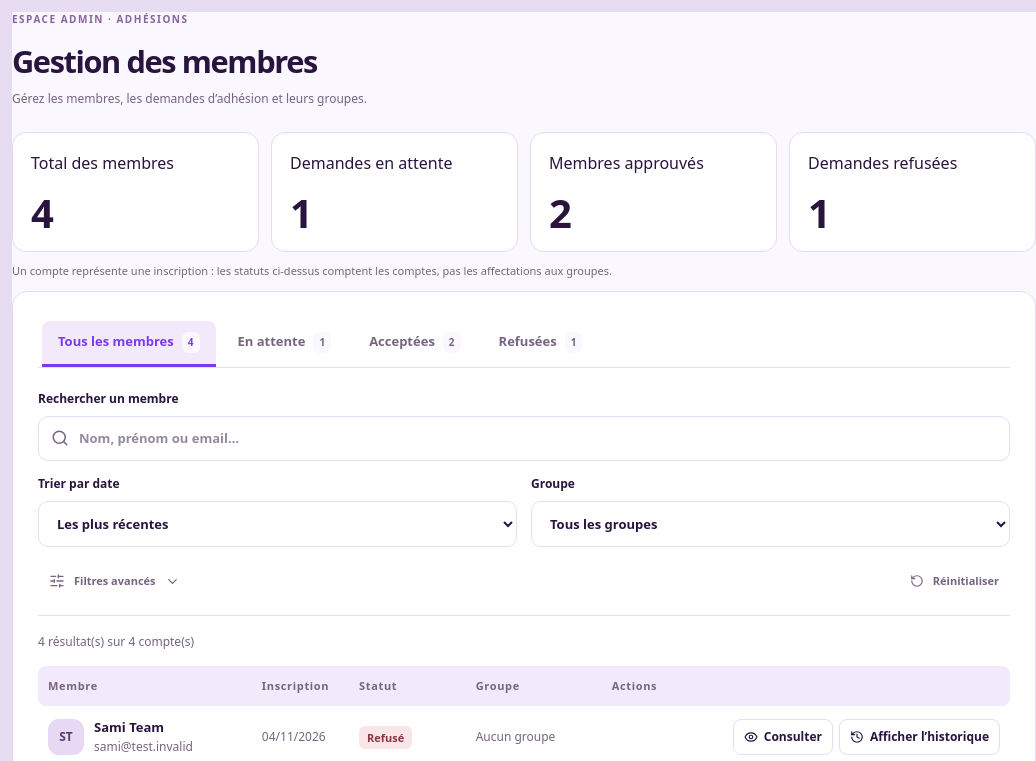
Gestion unique des membres › affiche tous les comptes et filtre sans changer de page
expect the heading "Gestion des membres" is shown: met, box x1=12 y1=43 x2=367 y2=79
Click the tab "En attente 1" at coordinates (284, 344), box x1=222 y1=321 x2=347 y2=367
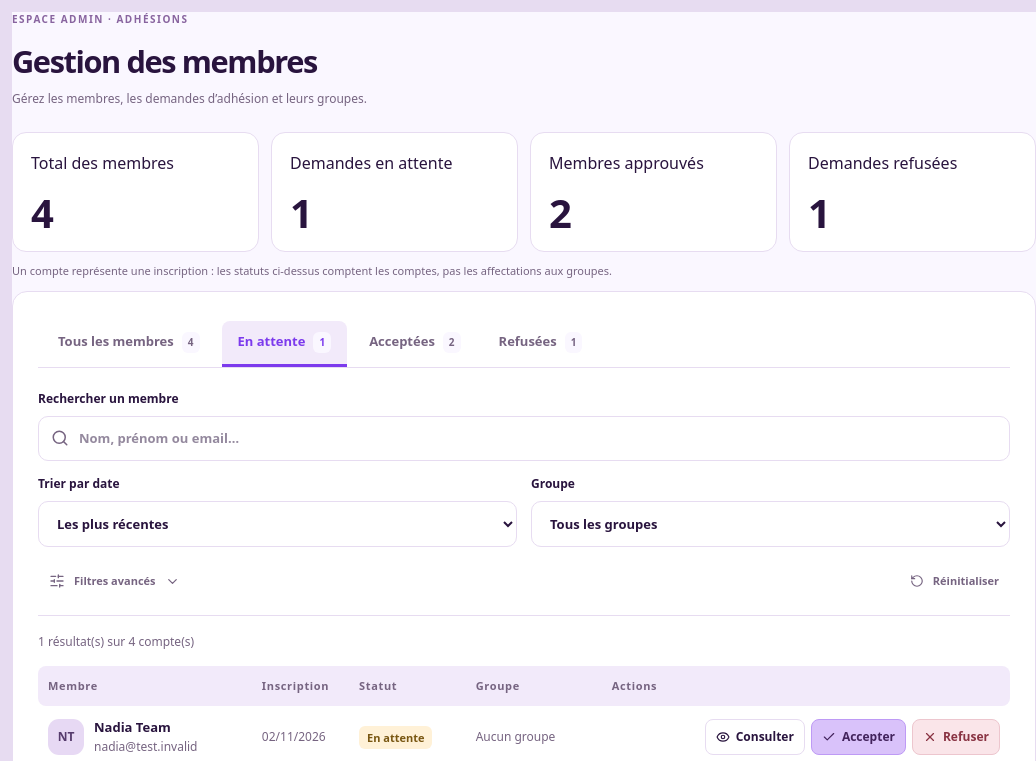
expect the text "nadia@test.invalid" is shown: met, box x1=94 y1=739 x2=198 y2=756
expect the number of buttons "Consulter" is 1: met, box x1=705 y1=719 x2=805 y2=755
Click the tab "Tous les membres 4" at coordinates (129, 344), box x1=42 y1=321 x2=216 y2=367
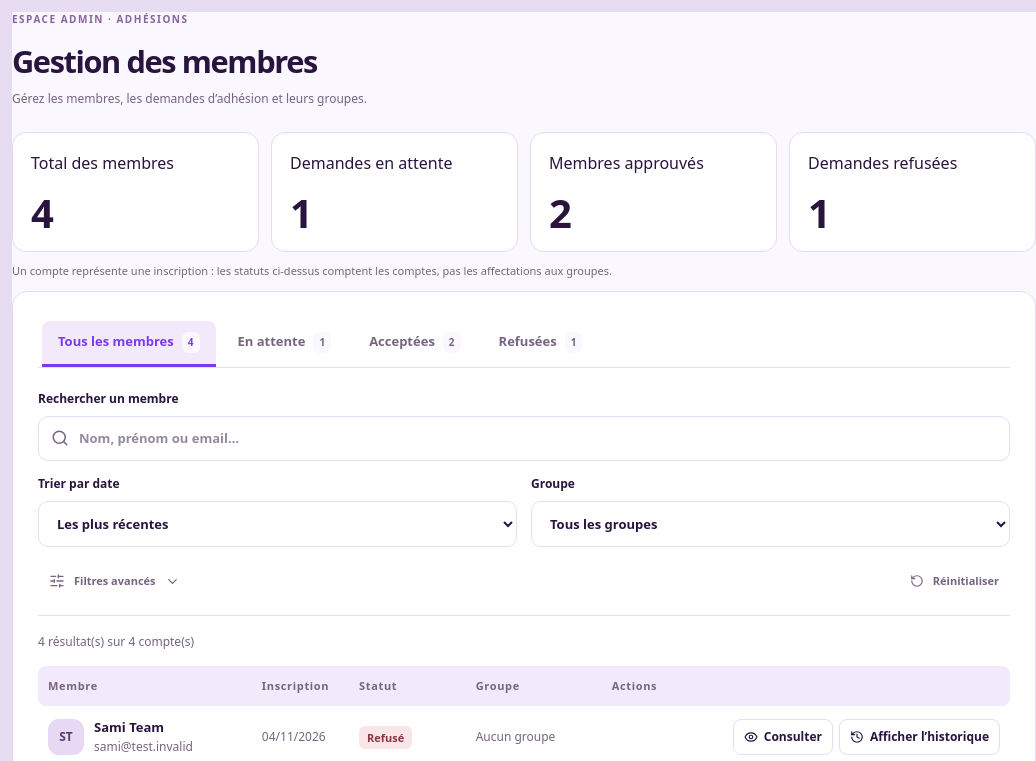
Type "amine" into the search field at coordinates (524, 438), box x1=38 y1=416 x2=1010 y2=461
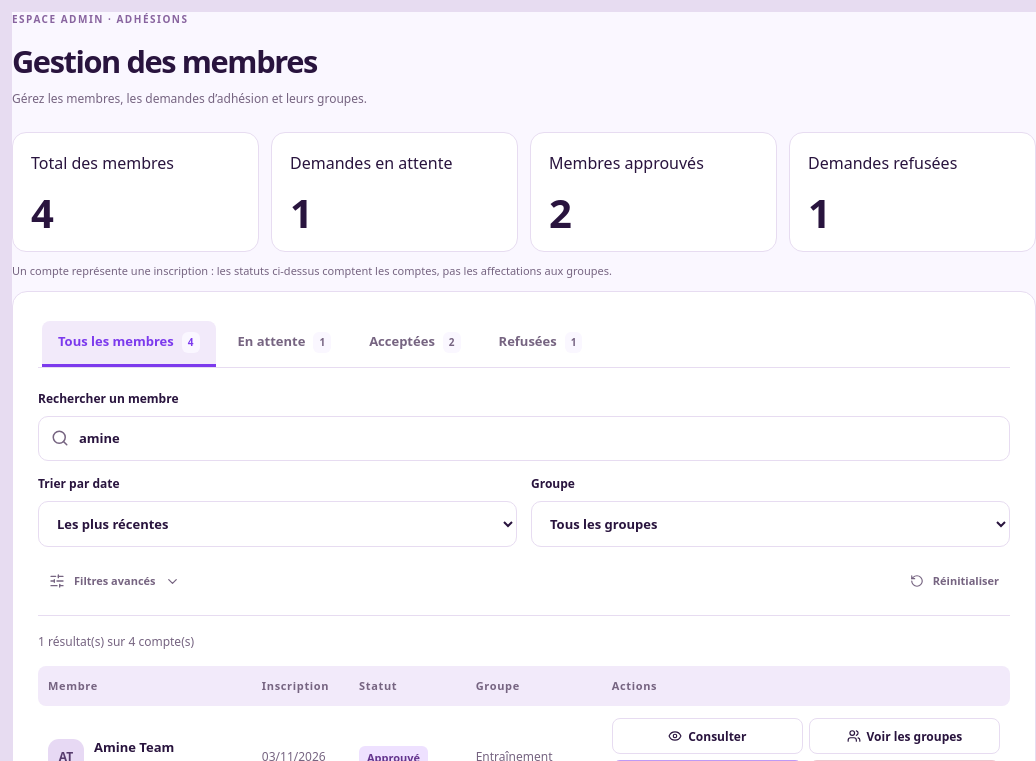
expect the number of buttons "Consulter" is 1: met, box x1=612 y1=718 x2=803 y2=754
Click the button "Réinitialiser" at coordinates (954, 581), box x1=899 y1=561 x2=1010 y2=601
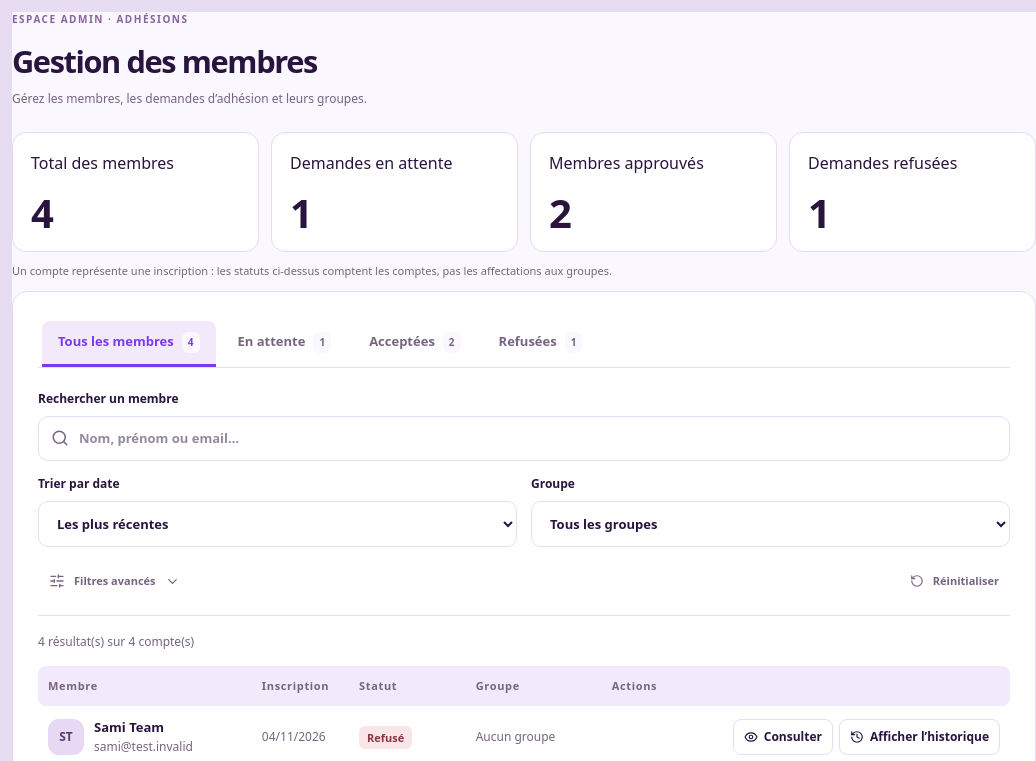
expect the number of buttons "Consulter" is 4: met
